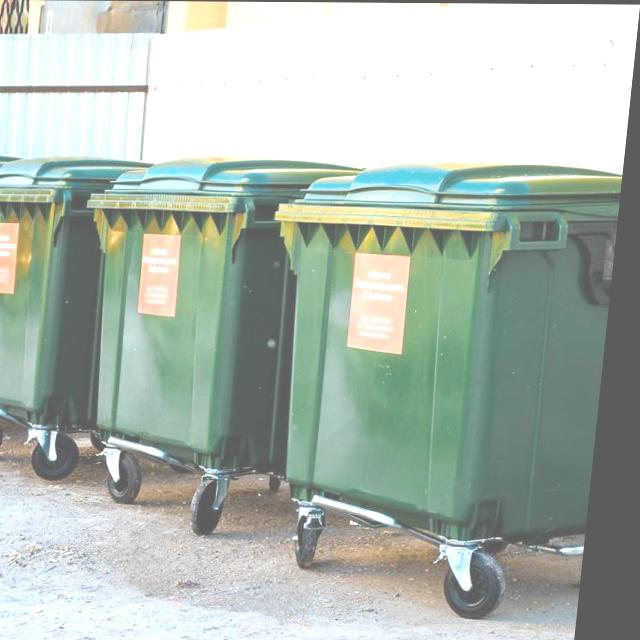Trash_Can_Closed: (254, 159, 627, 541), (71, 153, 370, 473), (0, 156, 159, 430)
